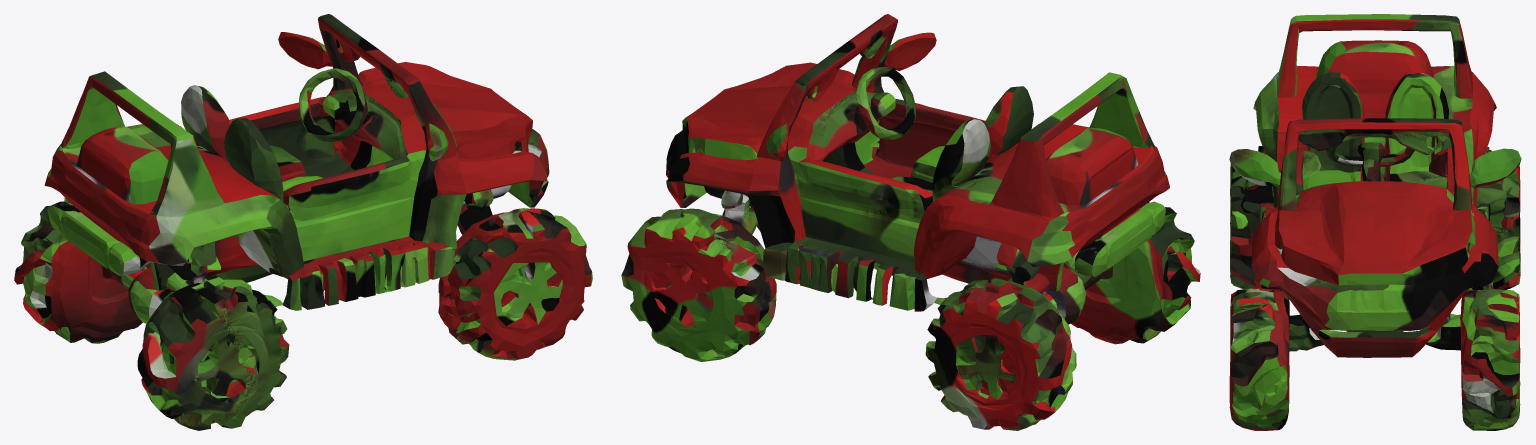
Rendered from sample.obj.
3 renders of one model, left to right at view 1: azimuth 30°, elevation 25°; view 2: azimuth 150°, elevation 25°; view 3: azimuth 270°, elevation 25°, orthographic. The views are drawn at different scales.
Bounding box in the file's own units: 1.07 × 0.65 × 0.649.
